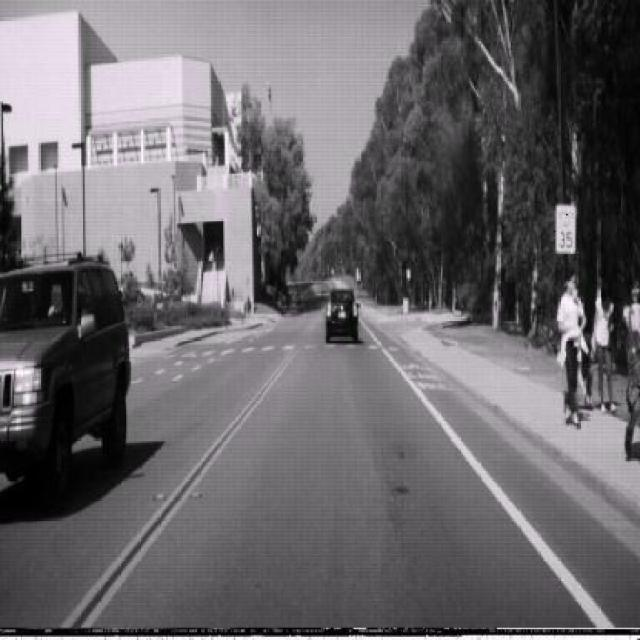speedLimit35: (555, 203, 577, 254)
